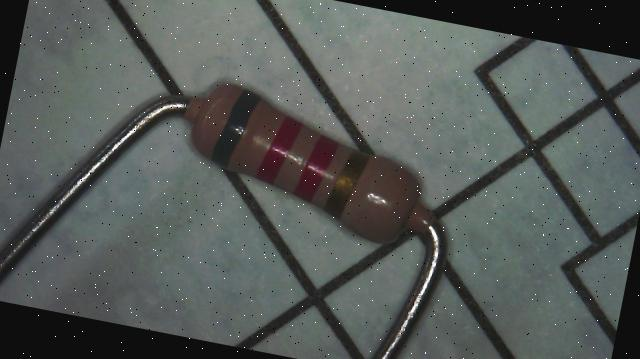gold: (323, 147, 369, 221)
grey: (209, 86, 261, 170)
red: (257, 112, 303, 186), (293, 131, 339, 204)
resistor: (169, 49, 457, 271)
